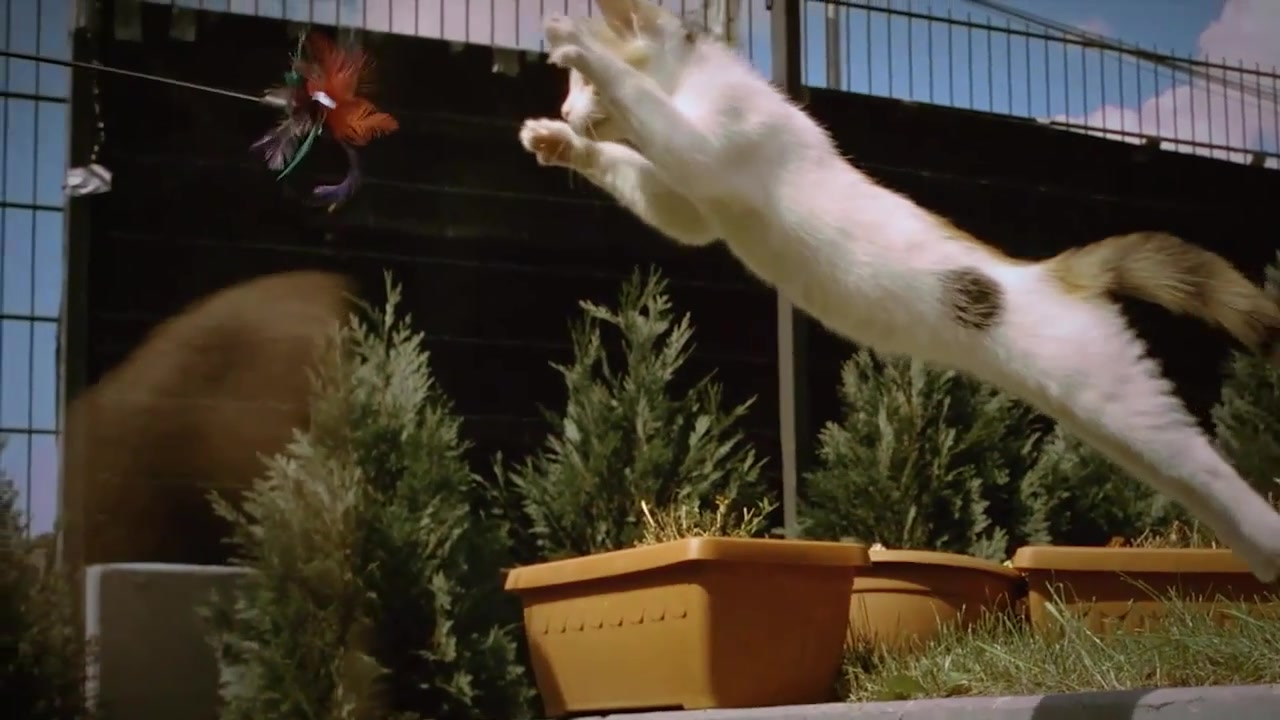cat: (516, 2, 1280, 590)
